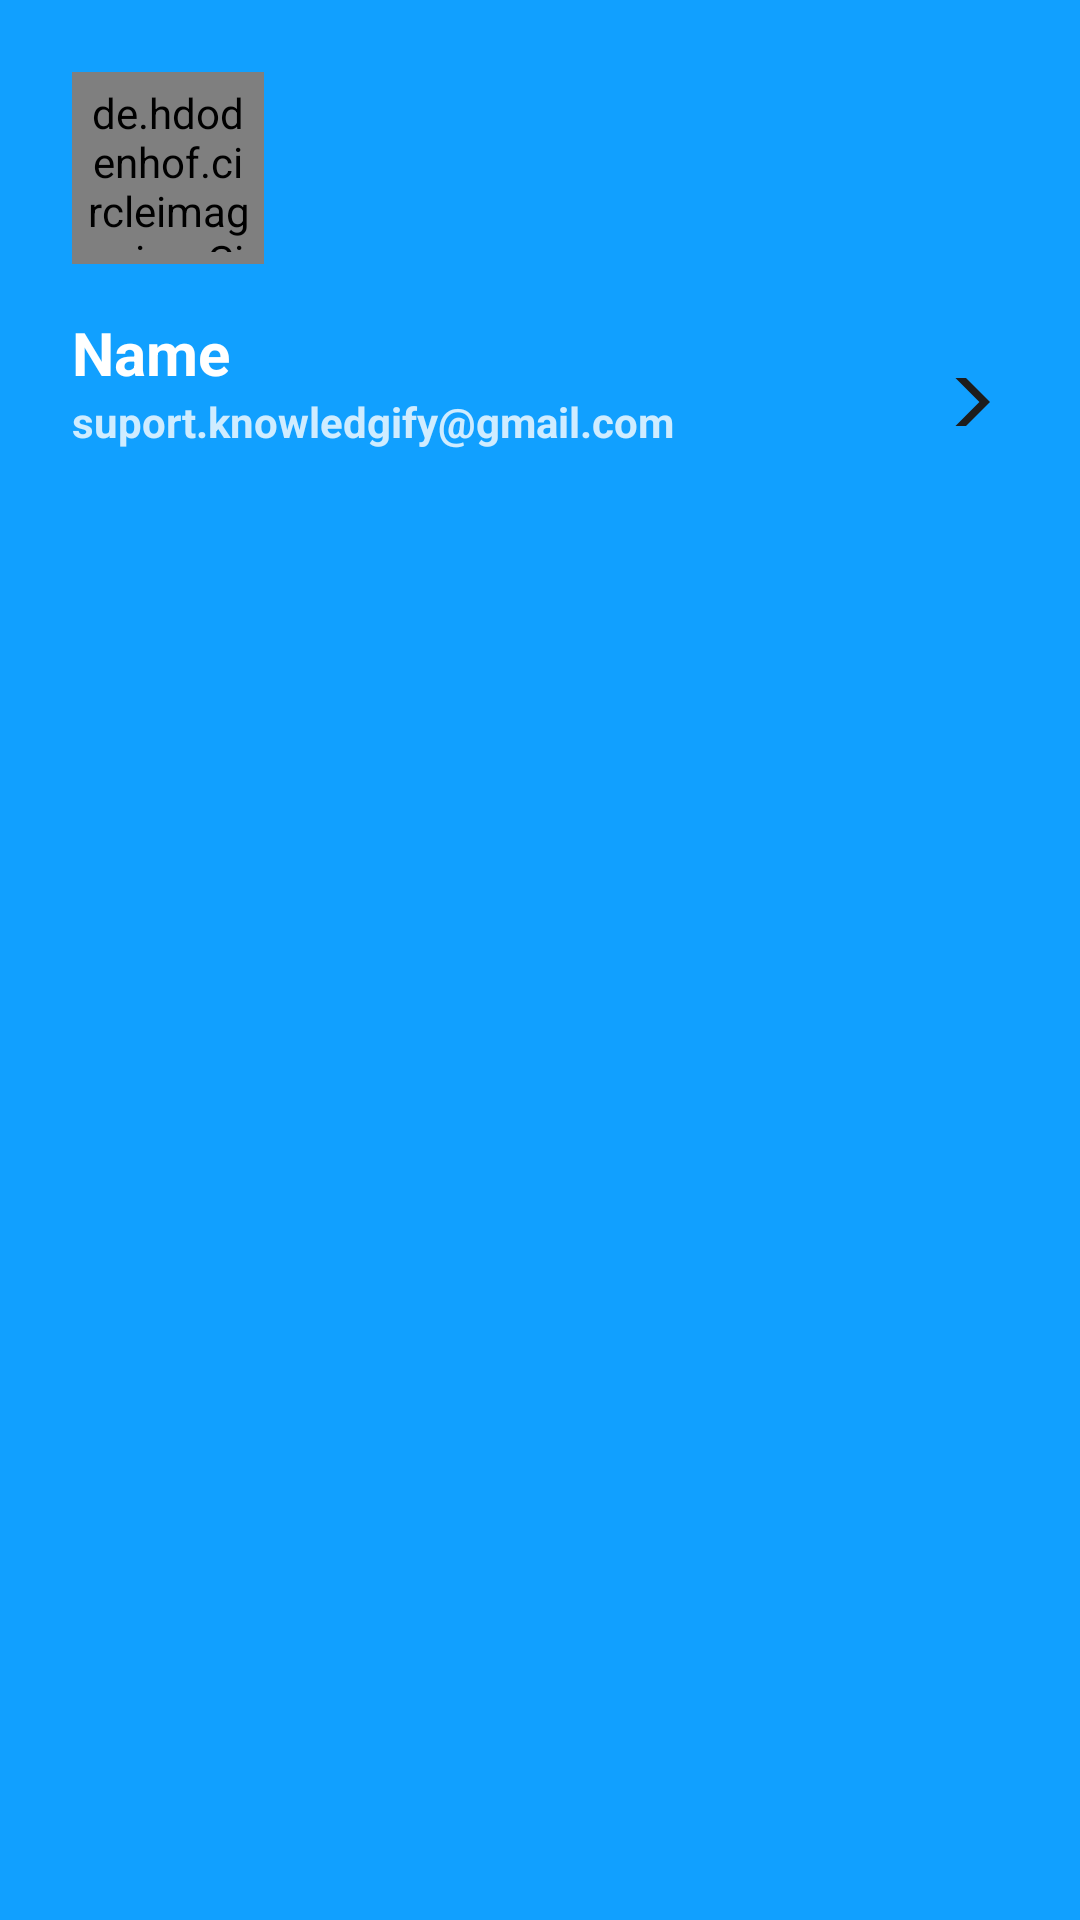

Icons on this 1080 x 1920 Android screen, each with the point to tap as [x,y]:
forward: [972,402]
